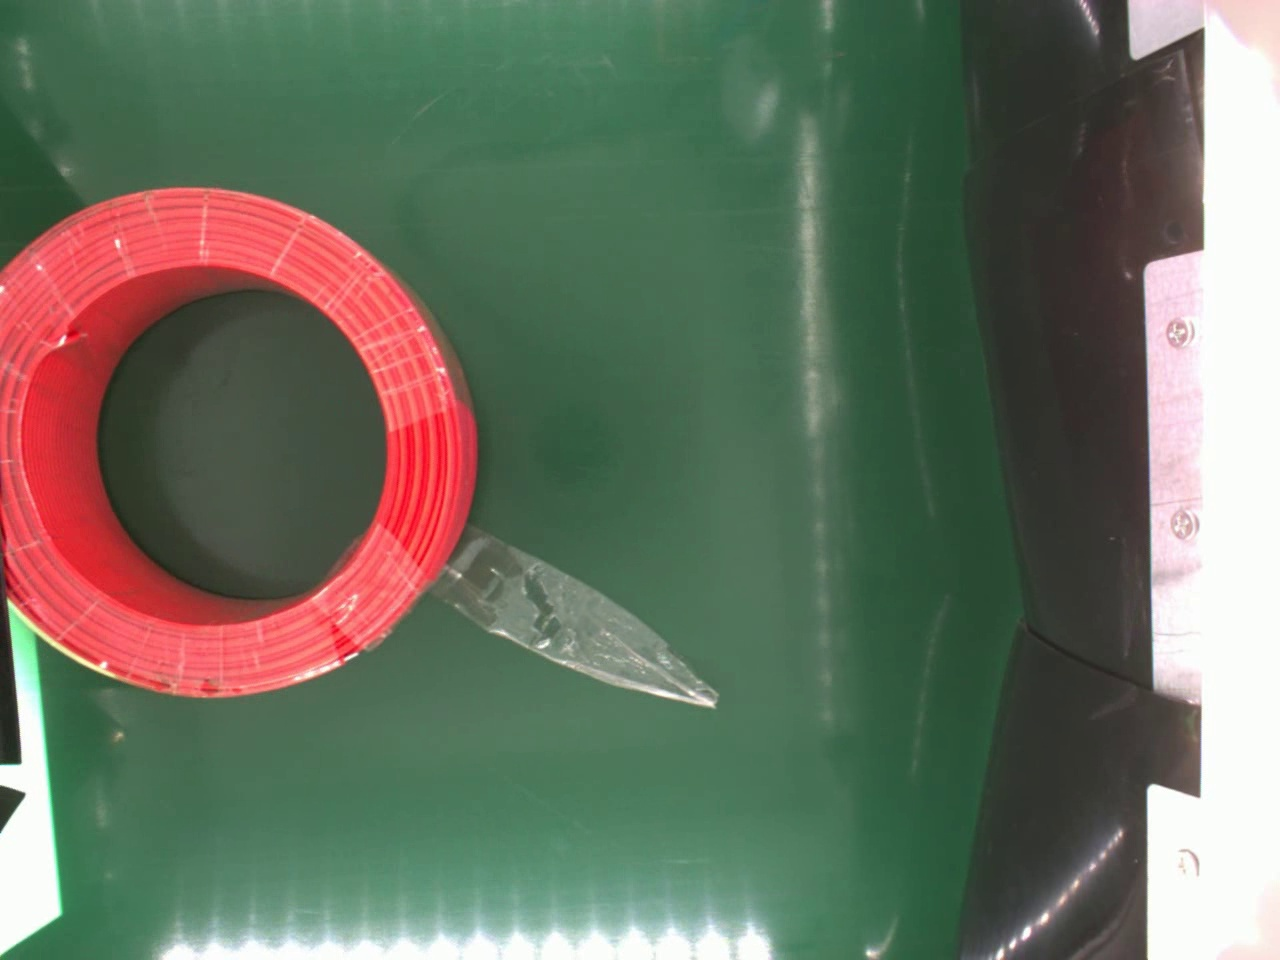red: (0, 182, 479, 700)
